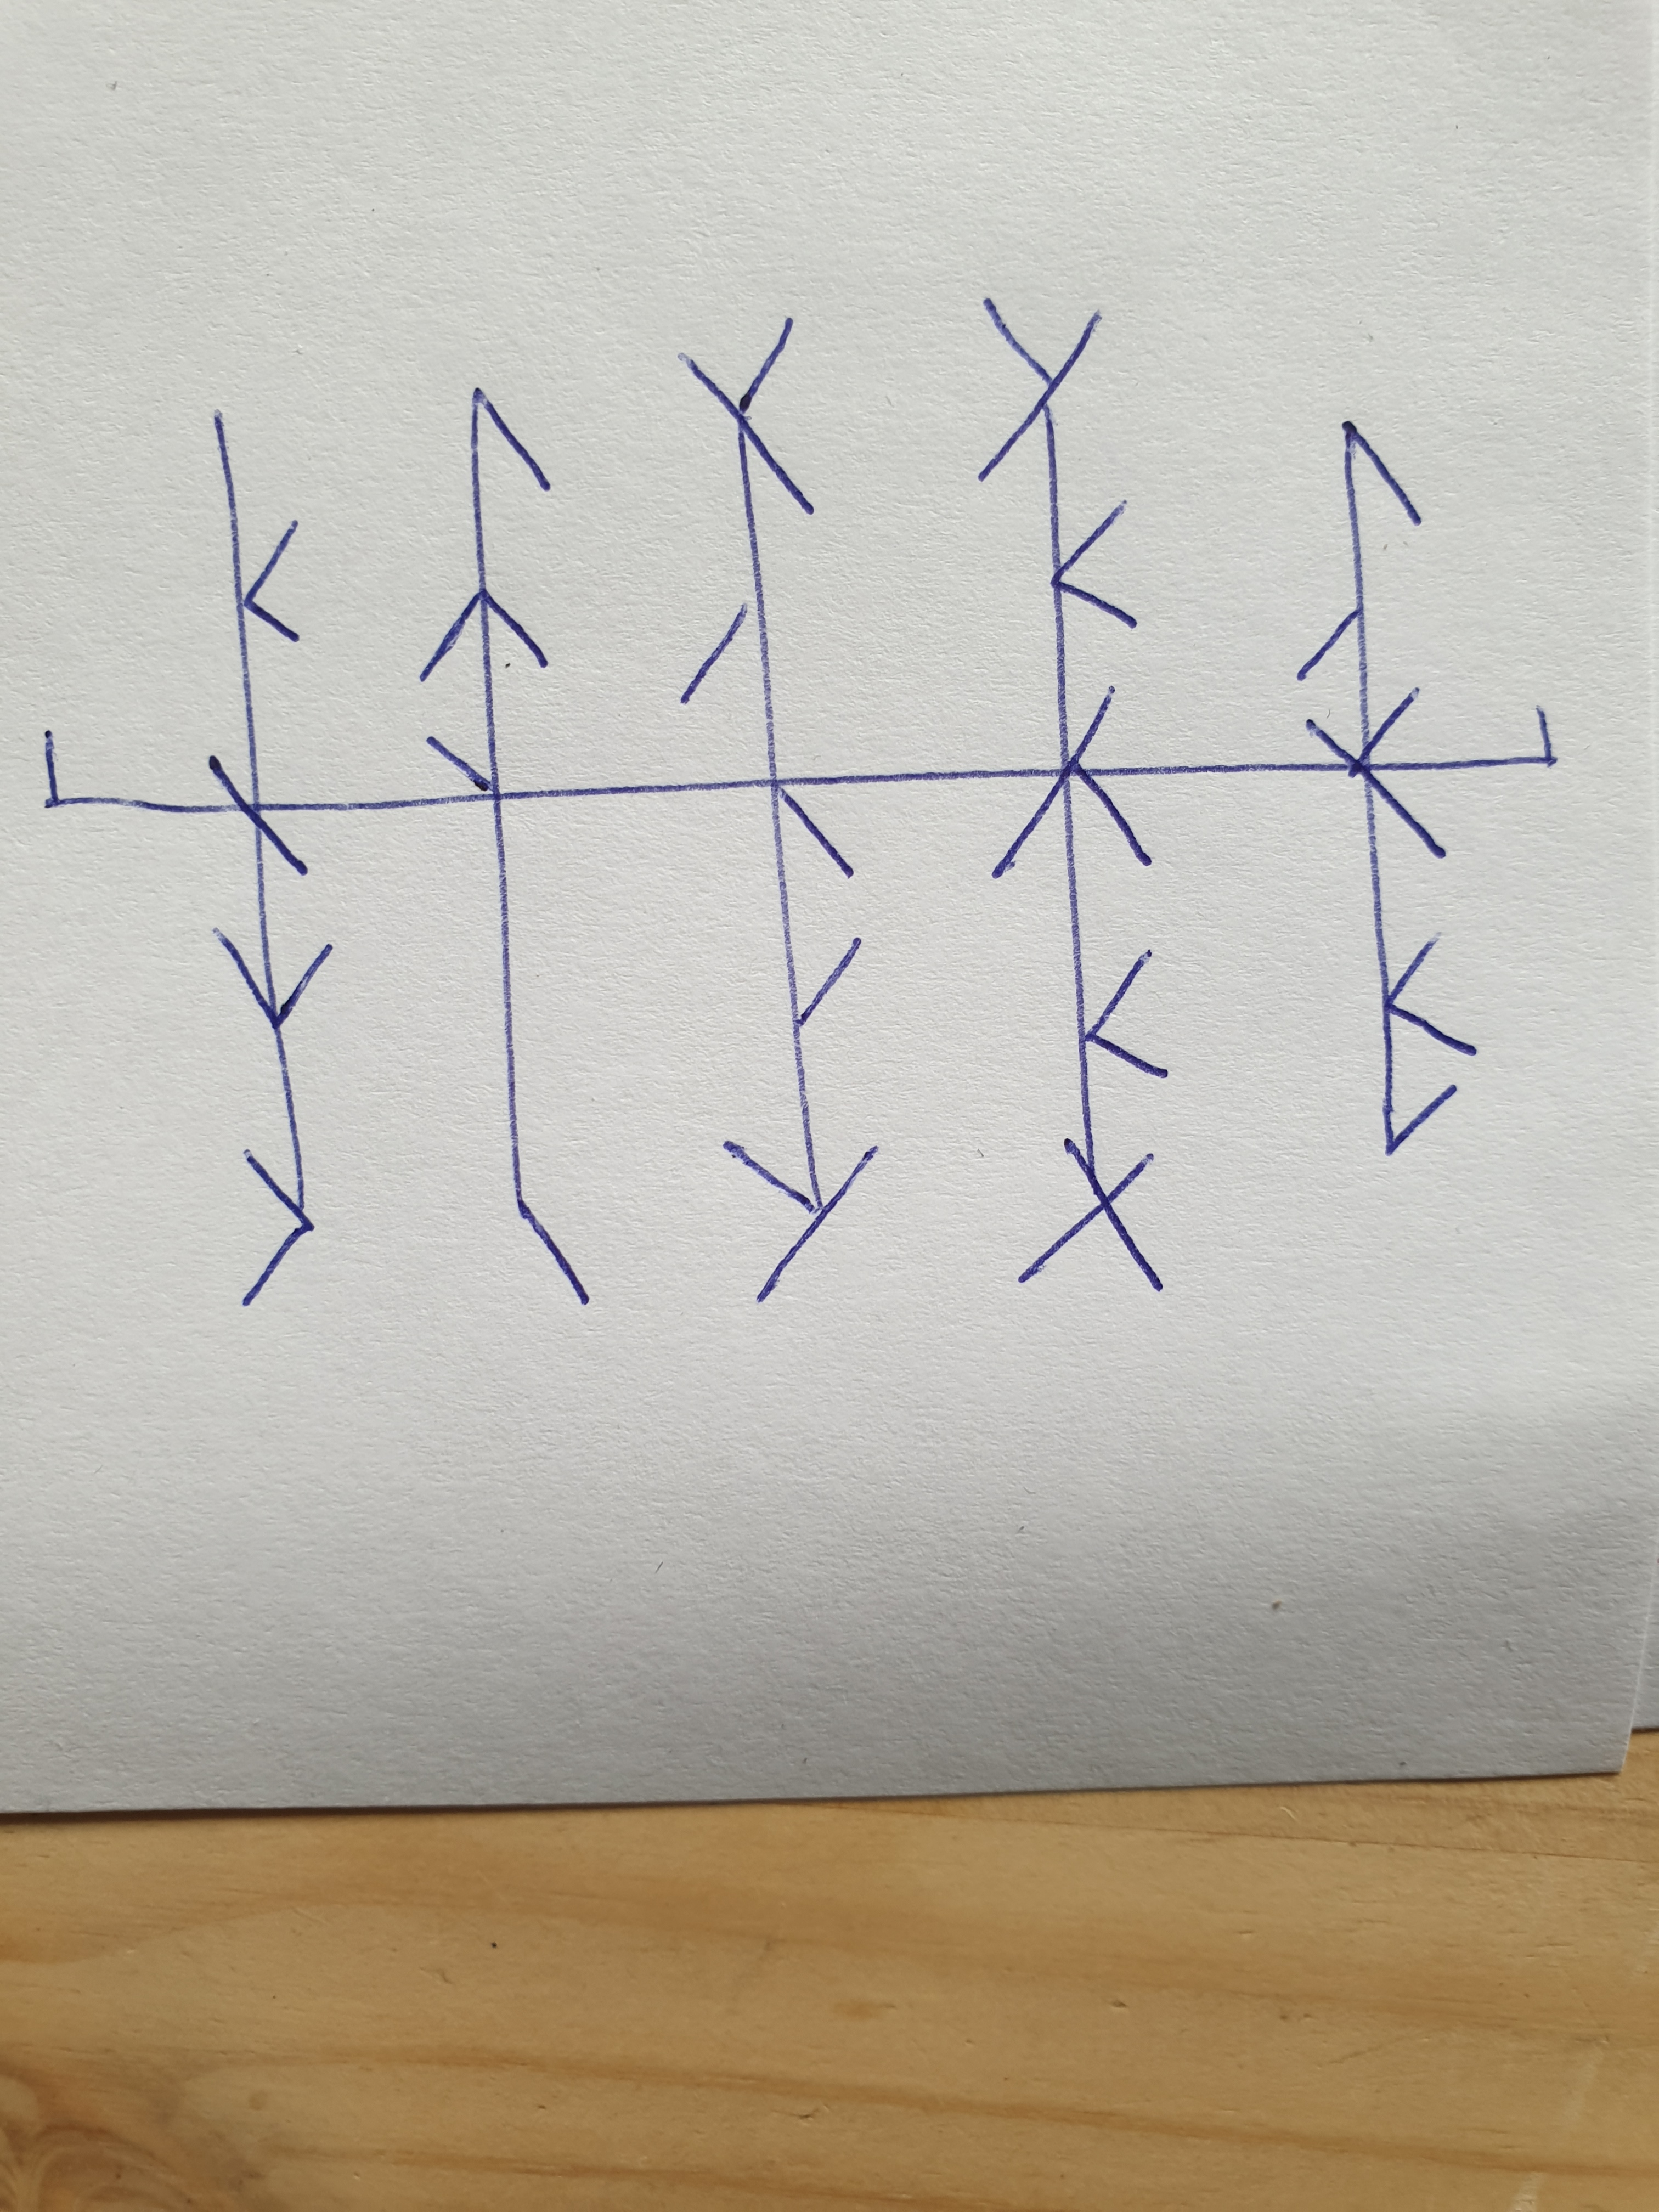Bar: (676, 319, 880, 1299), (981, 296, 1169, 1291), (420, 390, 591, 1303), (1297, 423, 1476, 1153), (207, 411, 335, 1303)
Barcode: (42, 293, 1558, 1305)
End: (1415, 707, 1560, 773)
Start: (44, 725, 206, 813)
